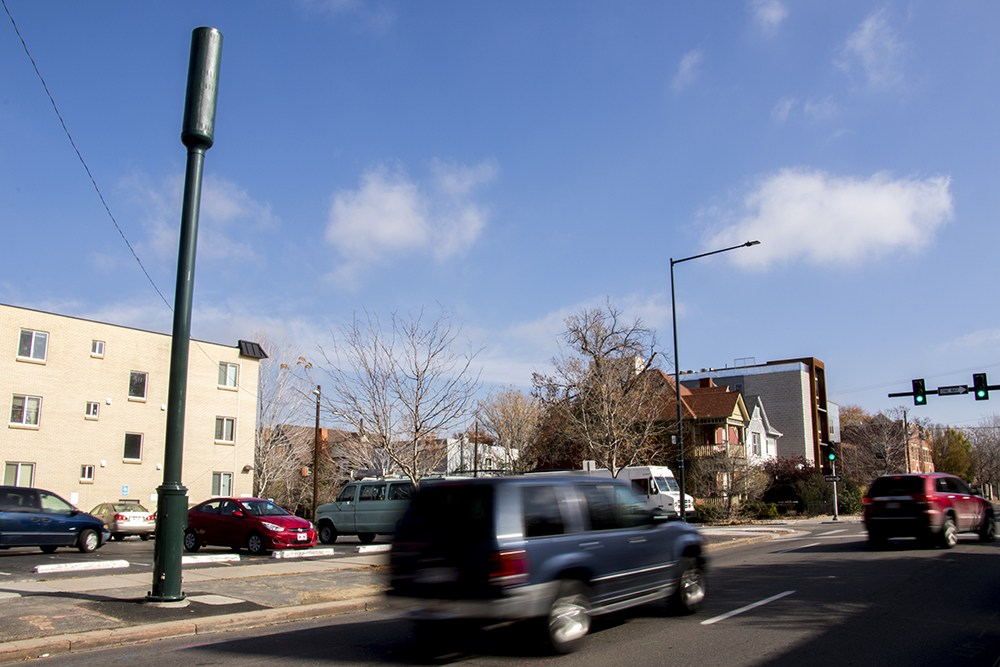car: (367, 468, 734, 654), (848, 458, 1000, 565), (308, 468, 440, 546), (181, 487, 328, 557), (2, 480, 127, 553), (86, 499, 166, 543)
pole: (111, 23, 252, 611), (642, 233, 765, 529), (821, 445, 852, 527)
